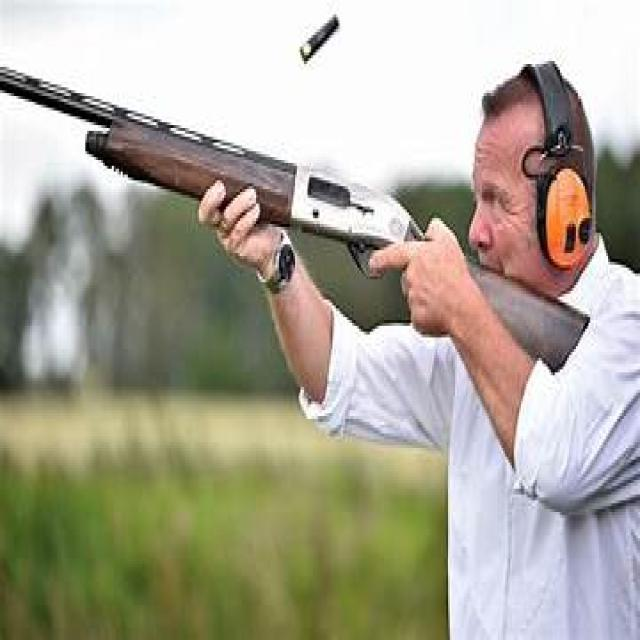Rifle: (0, 29, 578, 417)
